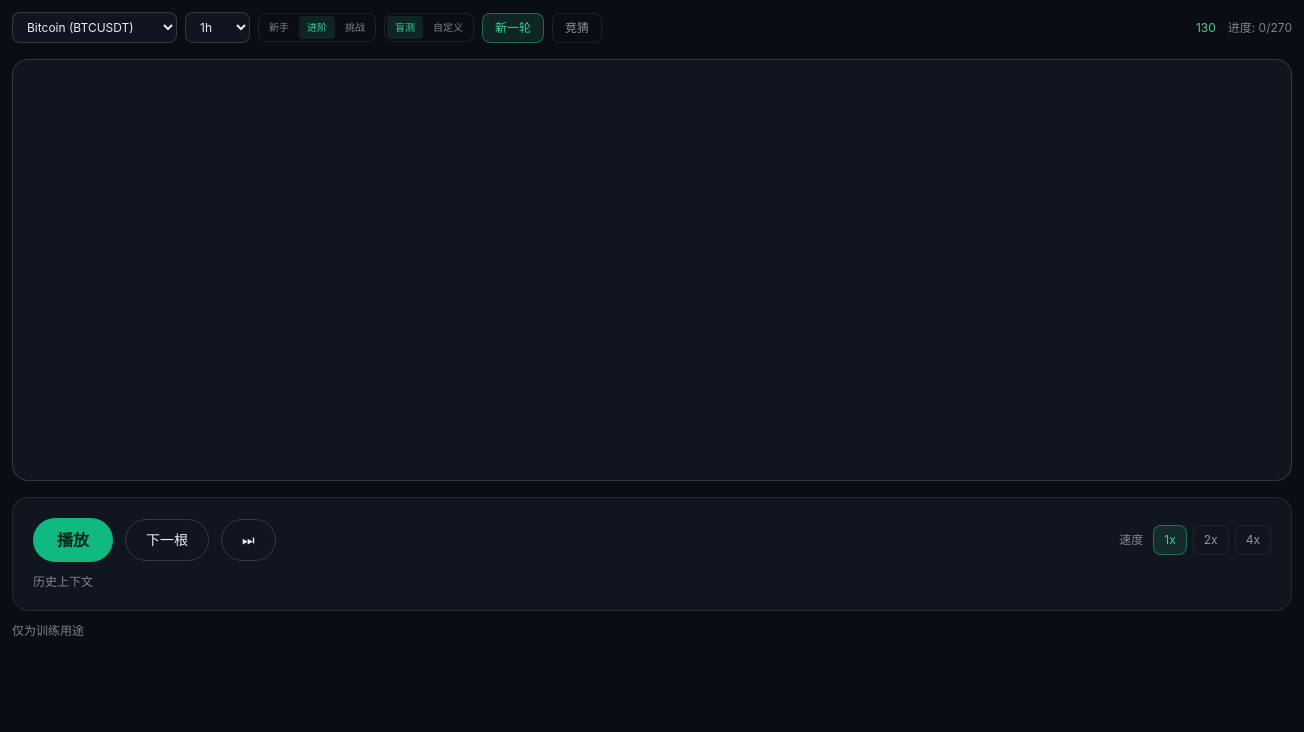
ReplayTrainer 未开竞猜时的播放控制 › 下一根推进一根 K 线，跳过直接到底
This screenshot has width=1304, height=732.
Check: the text "130 进度: 0/270" is shown, box [1196,20,1292,36]
Click the button "下一根" at {"x": 167, "y": 540}, box [125,519,209,561]
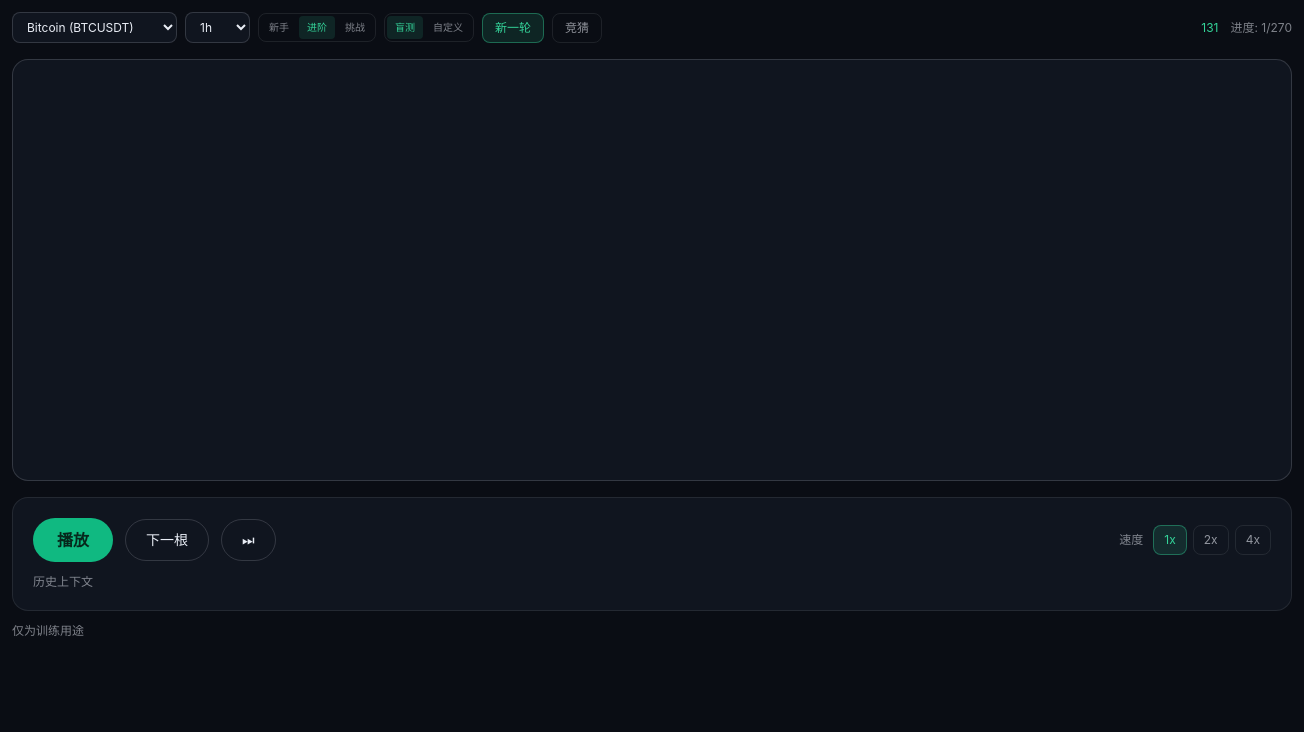
Check: the text "131 进度: 1/270" is shown, box [1201,20,1292,36]
Click the button named "跳到结尾" at {"x": 248, "y": 540}, box [221,519,276,561]
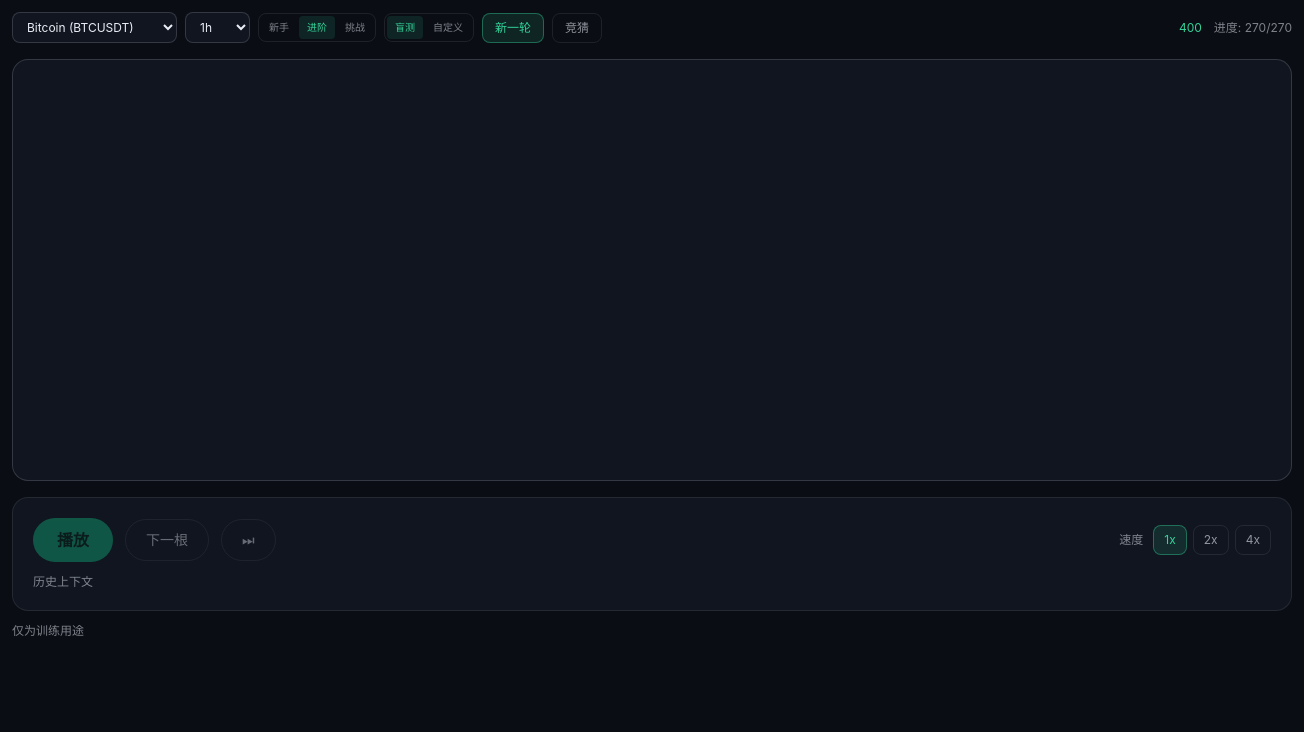
Check: the text "400 进度: 270/270" is shown, box [1179,20,1292,36]
Check: the button "播放" is disabled, box [33,518,113,562]
